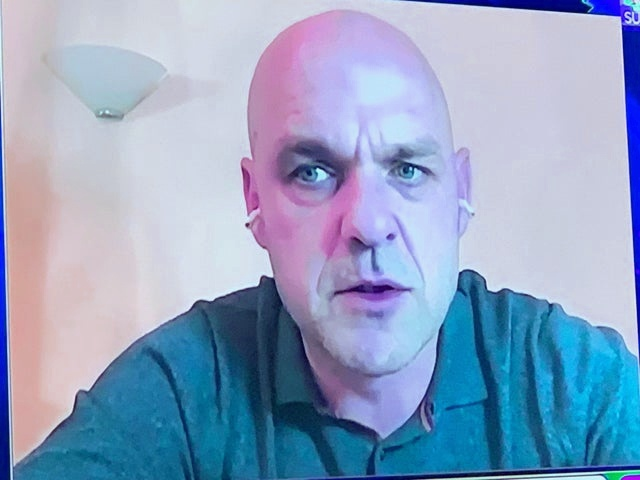earphone: (241, 158, 270, 249), (453, 148, 475, 236)
